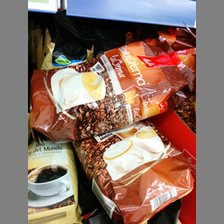coffee: (32, 43, 177, 135), (71, 121, 193, 223), (28, 139, 81, 221)
